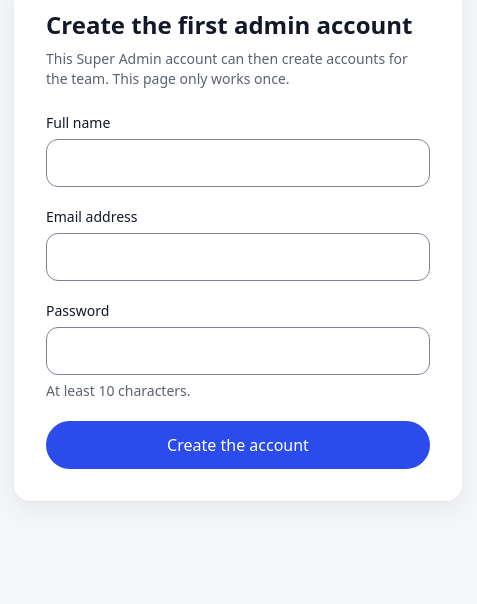
Test case: SetupForm (en) › shows the server's error in the current language
Type "Amani" into the field labelled "Full name" at (238, 163), box [46,139,430,187]
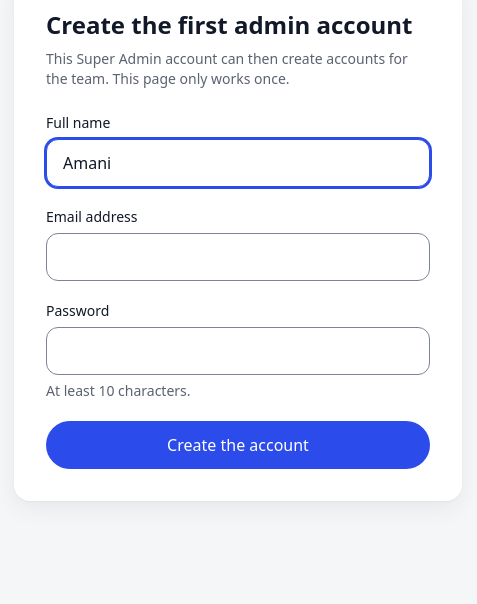
Type "amani@example.com" into the field labelled "Email address" at (238, 257), box [46,233,430,281]
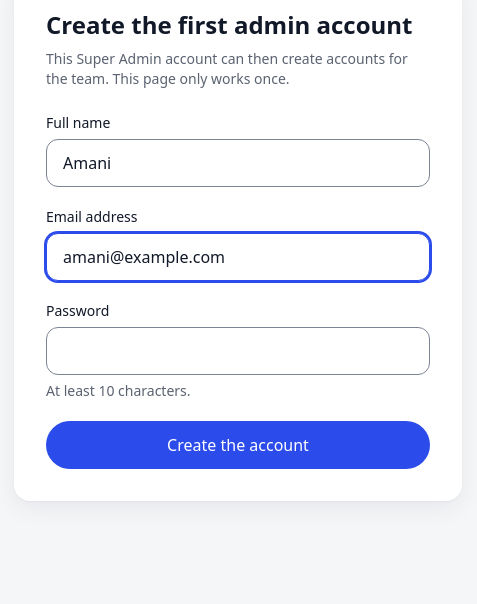
Type "a-long-secret-1" into the password field labelled "Password" at (238, 351), box [46,327,430,375]
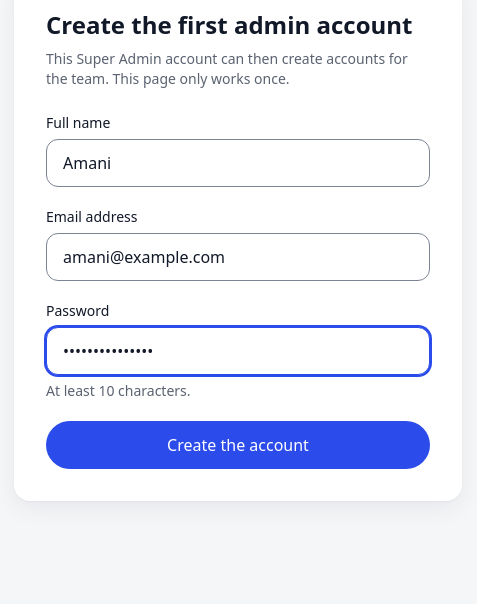
Click the button "Create the account" at (238, 445), box [46,421,430,469]
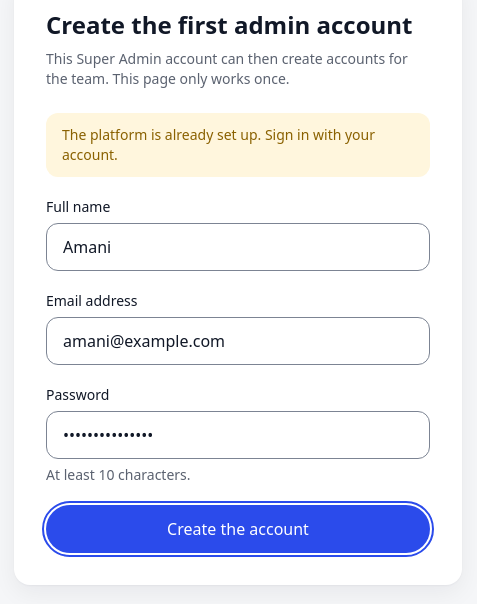
Expected: the message reads "The platform is already set up. Sign in with your account.", [62,125,375,164]
